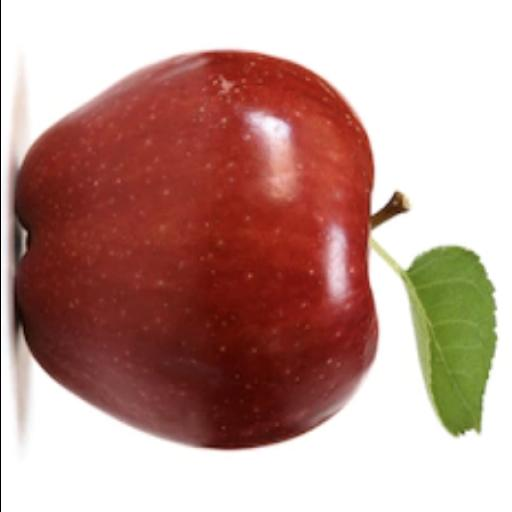apple: (17, 52, 376, 449)
